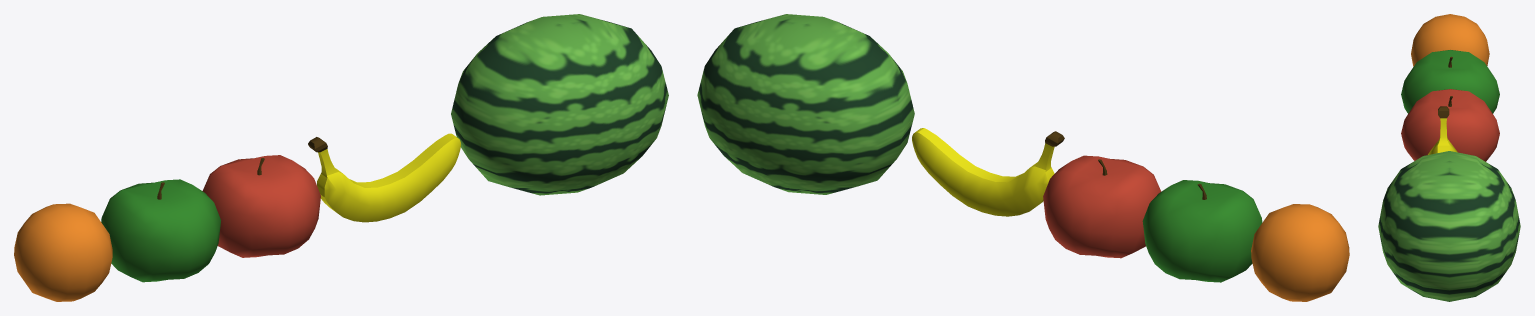
File: Store_fruit.fbx
3 views of the same model, side by side, from view 1: azimuth 30°, elevation 25°; view 2: azimuth 150°, elevation 25°; view 3: azimuth 270°, elevation 25° (orthographic). The views are drawn at different scales.
Visible parts, largest first — view 1: Mellon, Green_apple, Red_apple, Orange, Bana; view 2: Mellon, Green_apple, Red_apple, Orange, Bana; view 3: Mellon, Red_apple, Green_apple, Orange, Bana.
Boxes of the visible parts, x1=… form: Mellon: x1=451, y1=14, x2=668, y2=195; Green_apple: x1=101, y1=179, x2=220, y2=282; Red_apple: x1=202, y1=155, x2=320, y2=257; Orange: x1=14, y1=203, x2=112, y2=301; Bana: x1=308, y1=133, x2=460, y2=222; Mellon: x1=697, y1=14, x2=914, y2=194; Green_apple: x1=1142, y1=180, x2=1262, y2=282; Red_apple: x1=1043, y1=155, x2=1161, y2=258; Orange: x1=1251, y1=204, x2=1349, y2=301; Bana: x1=912, y1=128, x2=1064, y2=216; Mellon: x1=1378, y1=151, x2=1520, y2=301; Red_apple: x1=1401, y1=89, x2=1499, y2=161; Green_apple: x1=1401, y1=50, x2=1499, y2=113; Orange: x1=1411, y1=14, x2=1489, y2=66; Bana: x1=1428, y1=106, x2=1457, y2=154.
Size of the model in its own units: 21.21 by 5.12 by 5.12.
Materials: 1 (1 with a texture image).
